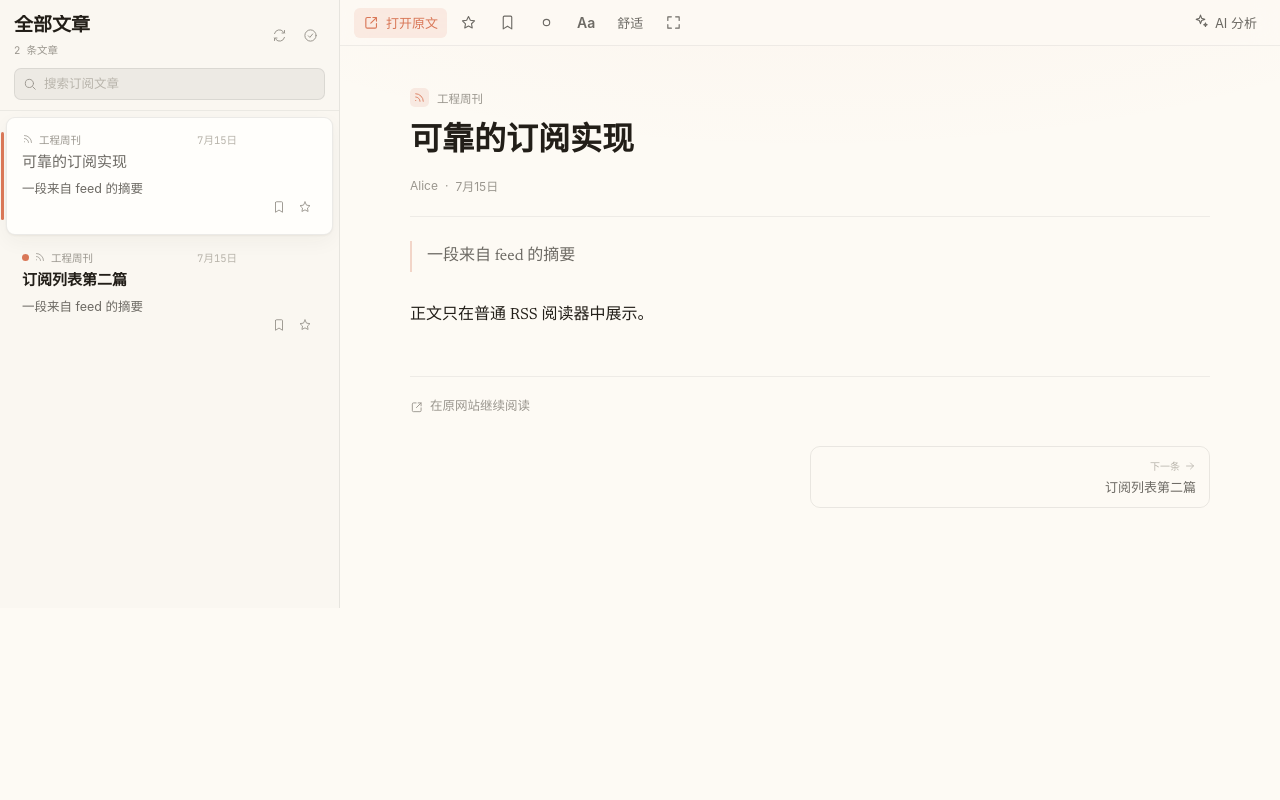
Test case: SubsView › 按当前订阅列表顺序导航到下一篇
This screenshot has width=1280, height=800.
Click the button with aria-label "下一条：订阅列表第二篇": click(1150, 487) left=810, top=446, right=1210, bottom=508
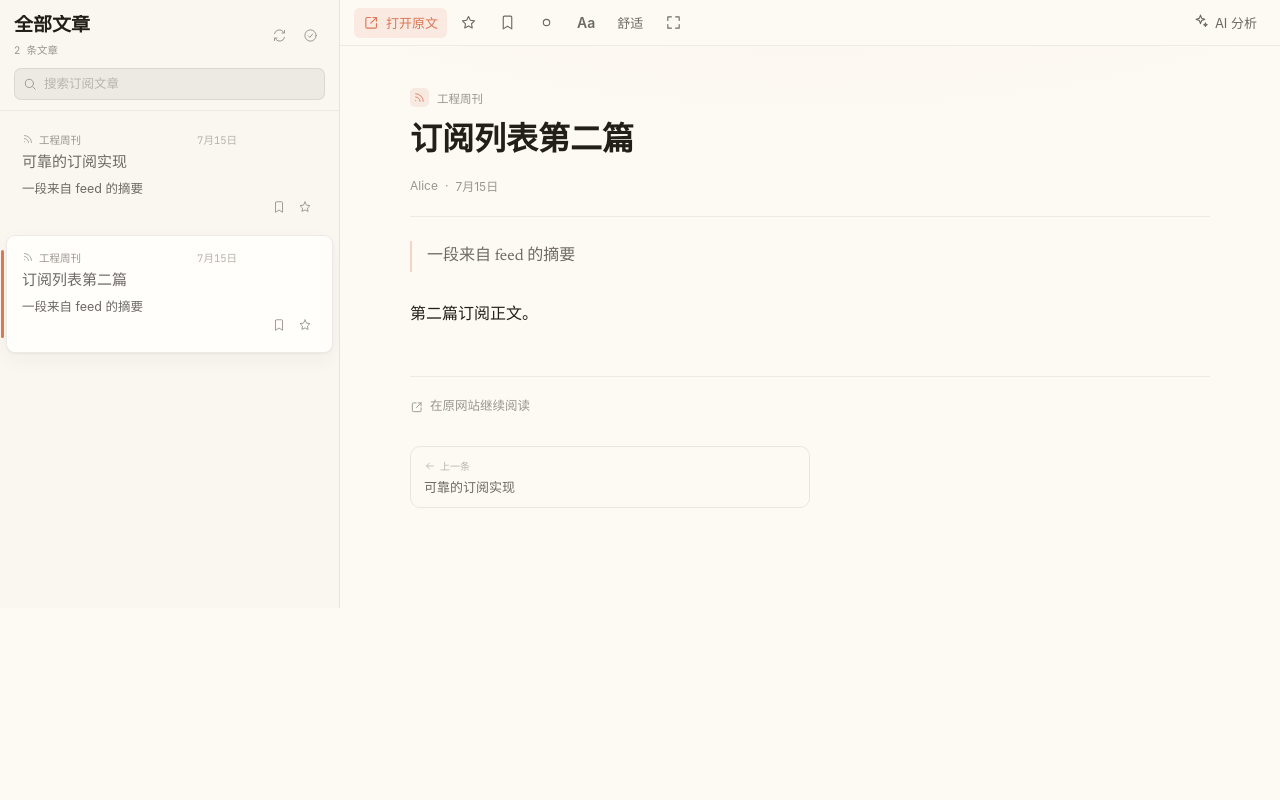
Expected: the heading "订阅列表第二篇" is shown, left=410, top=126, right=634, bottom=158
Expected: the button with aria-label "上一条：可靠的订阅实现" is shown, left=410, top=446, right=810, bottom=508
